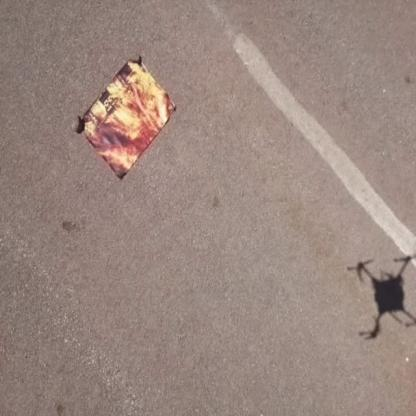fire-poster: (76, 52, 177, 182)
